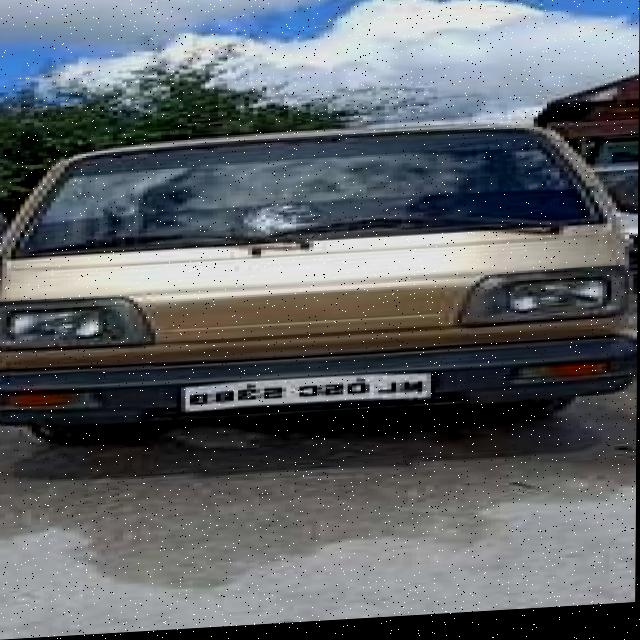plate: (176, 372, 438, 419)
